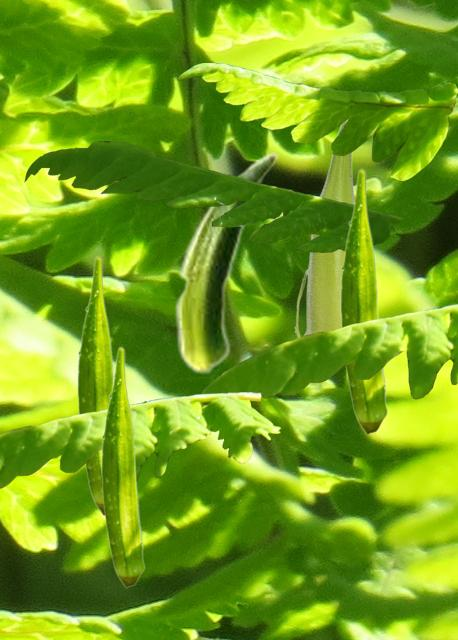okra: (174, 152, 277, 374), (294, 121, 354, 337), (340, 168, 387, 434), (101, 346, 144, 587), (77, 255, 113, 515)
